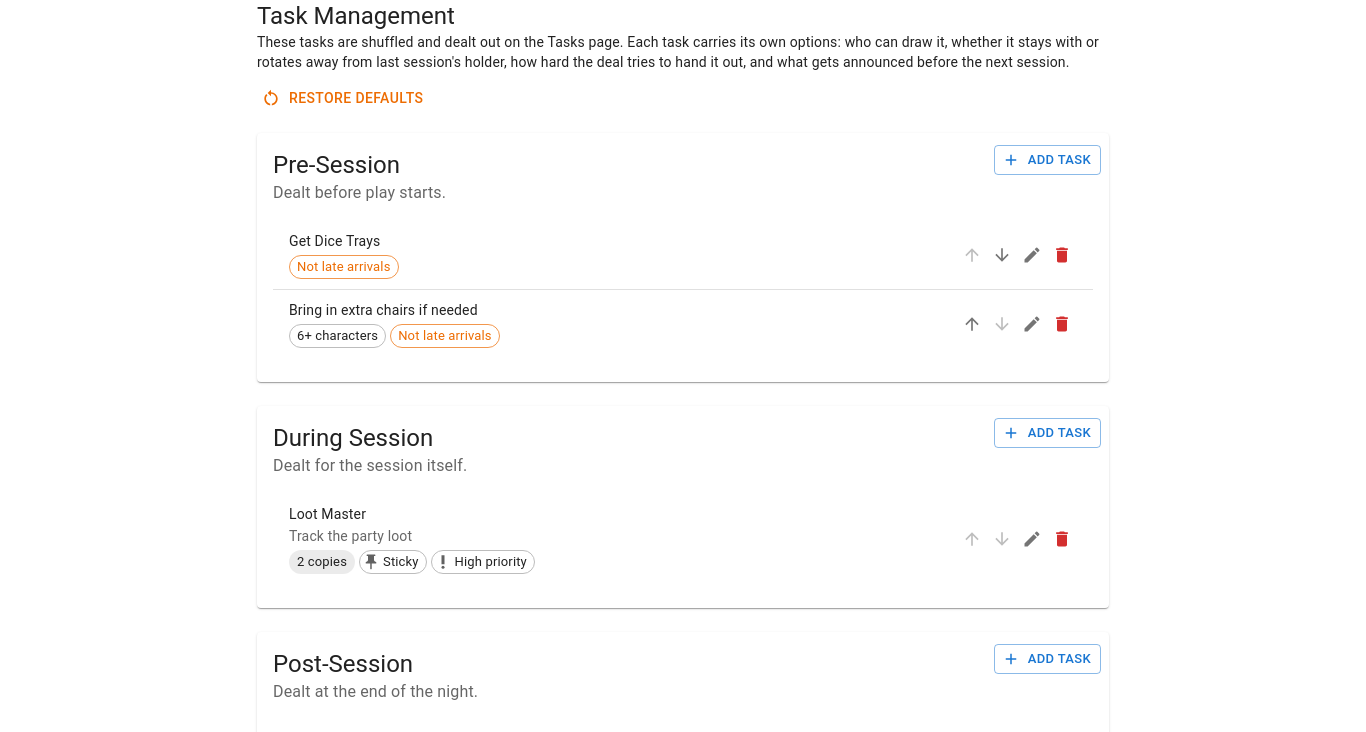
Test case: TaskManagement › submit-time validation › rejects a limit that is not a whole number instead of truncating it (F-1218)
Expected: the text "Get Dice Trays" is shown, [289,233,380,249]
Click the button "Add task" in the row of "Pre-Session".
click(1047, 160)  # box [994,144,1101,175]
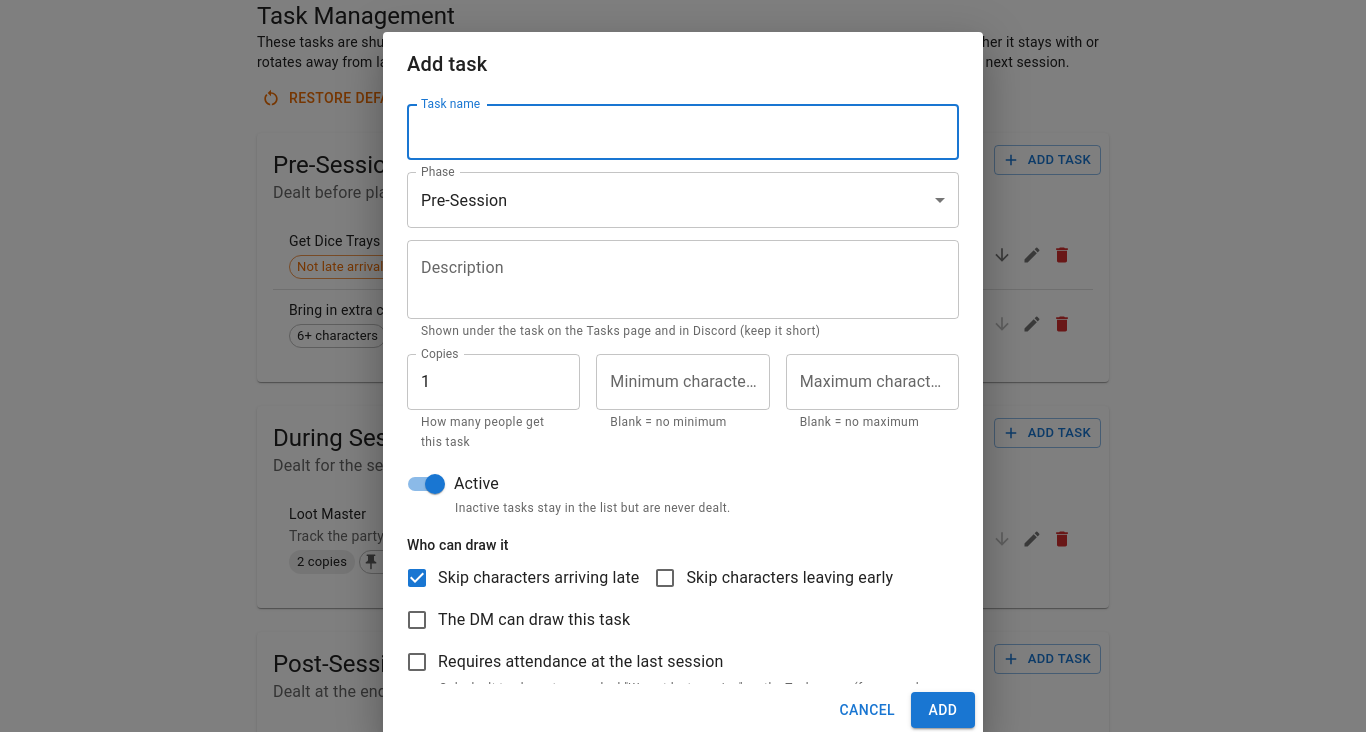
Type "Valid name" into the field labelled "Task name".
click(683, 132); type("Valid name")  # box [407,104,959,160]
Replace the text in the number field labelled "Copies" with "2.7" at (494, 382), box [407,354,580,410]
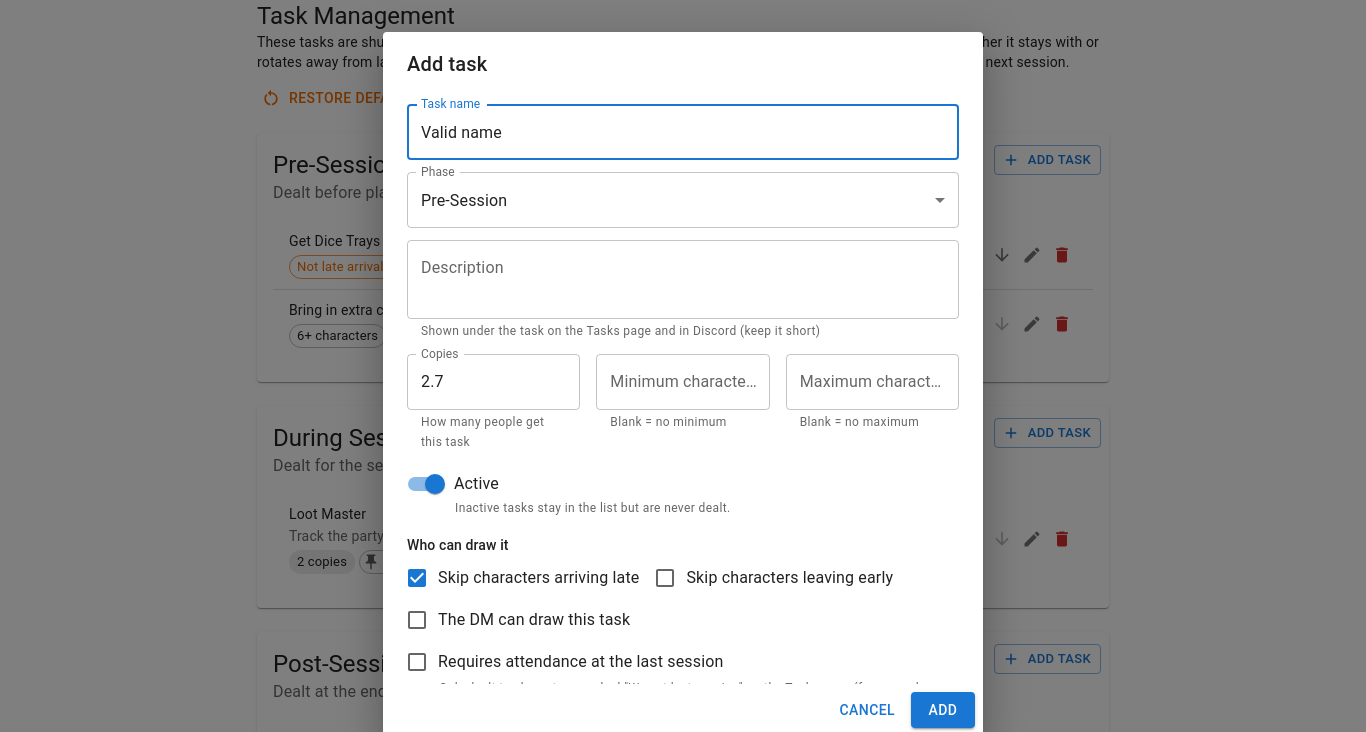
Click the button "Add".
click(943, 710)  # box [911,692,975,728]
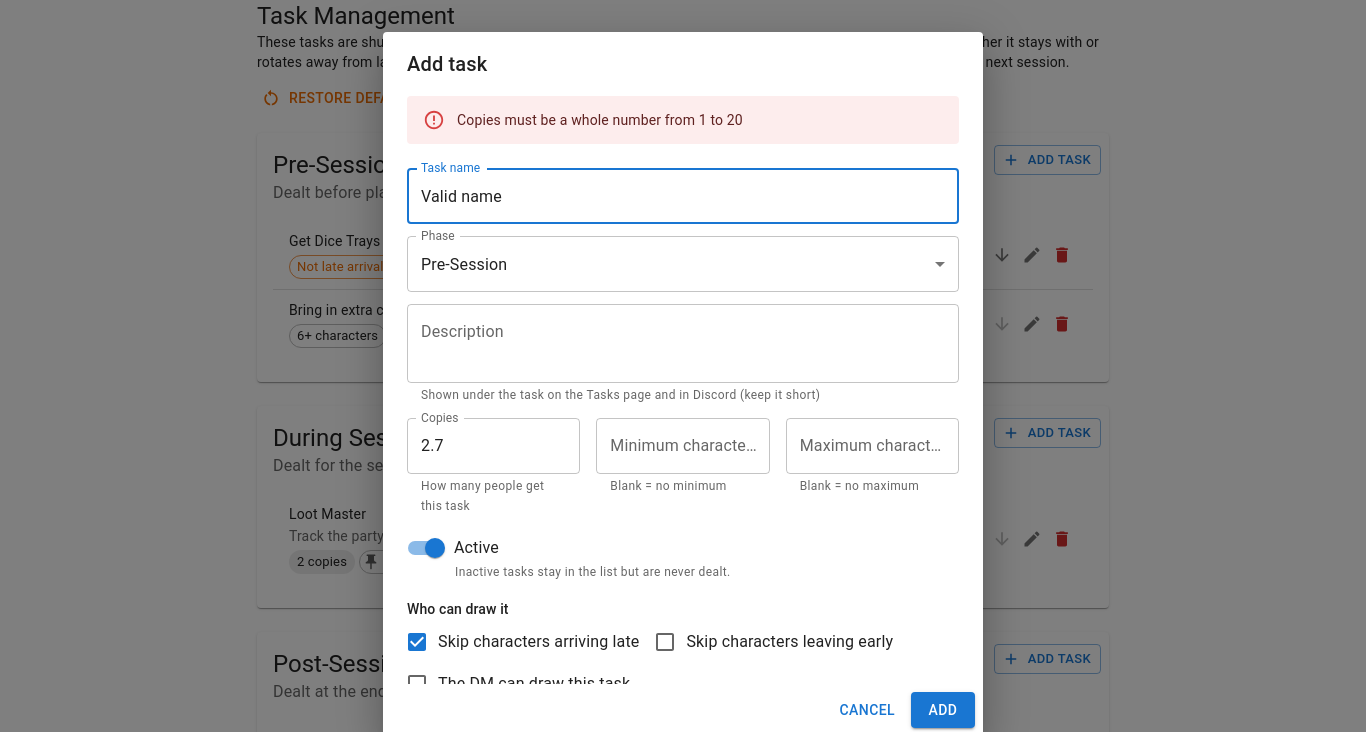
Expected: the text "Copies must be a whole number from 1 to 20" is shown, [457,112,743,128]
Replace the text in the number field labelled "Copies" with "1" at (494, 446), box [407,418,580,474]
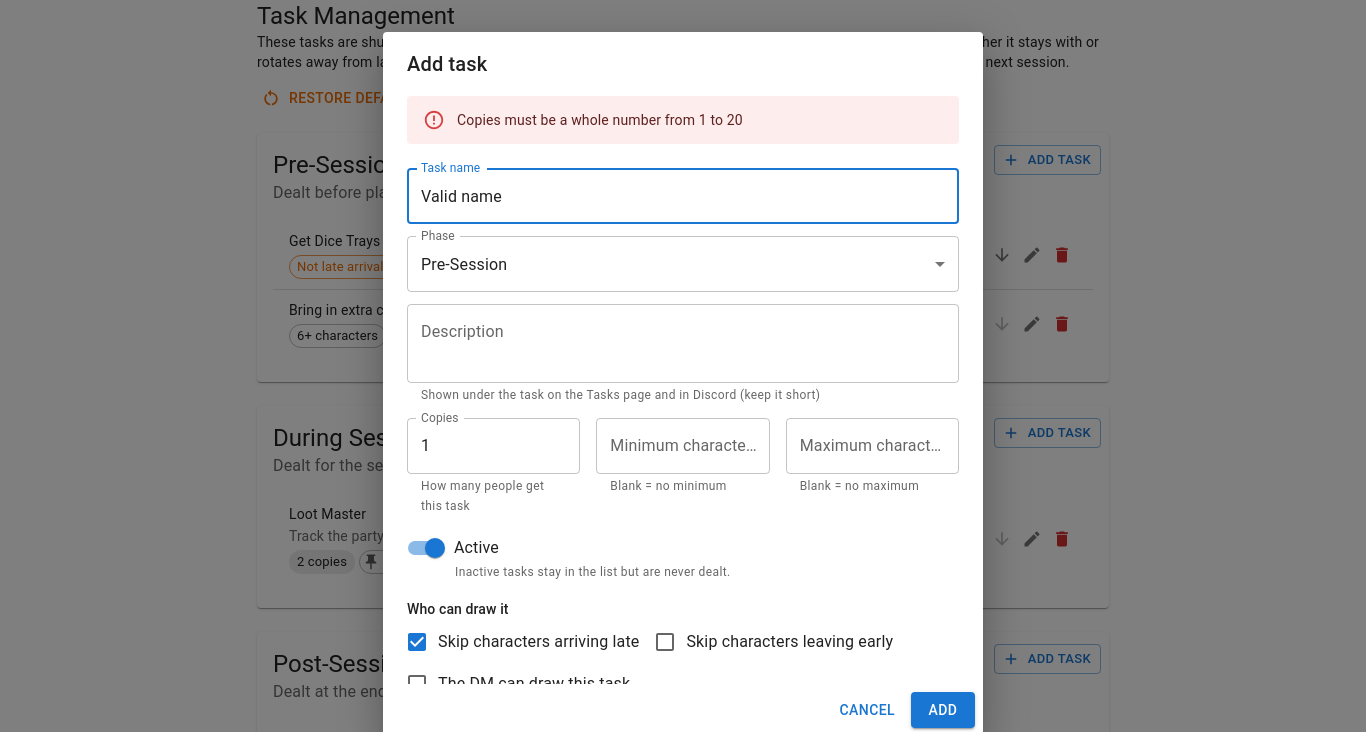
Type "1e1" into the number field labelled "Minimum characters".
click(683, 446); type("1e1")  # box [596,418,770,474]
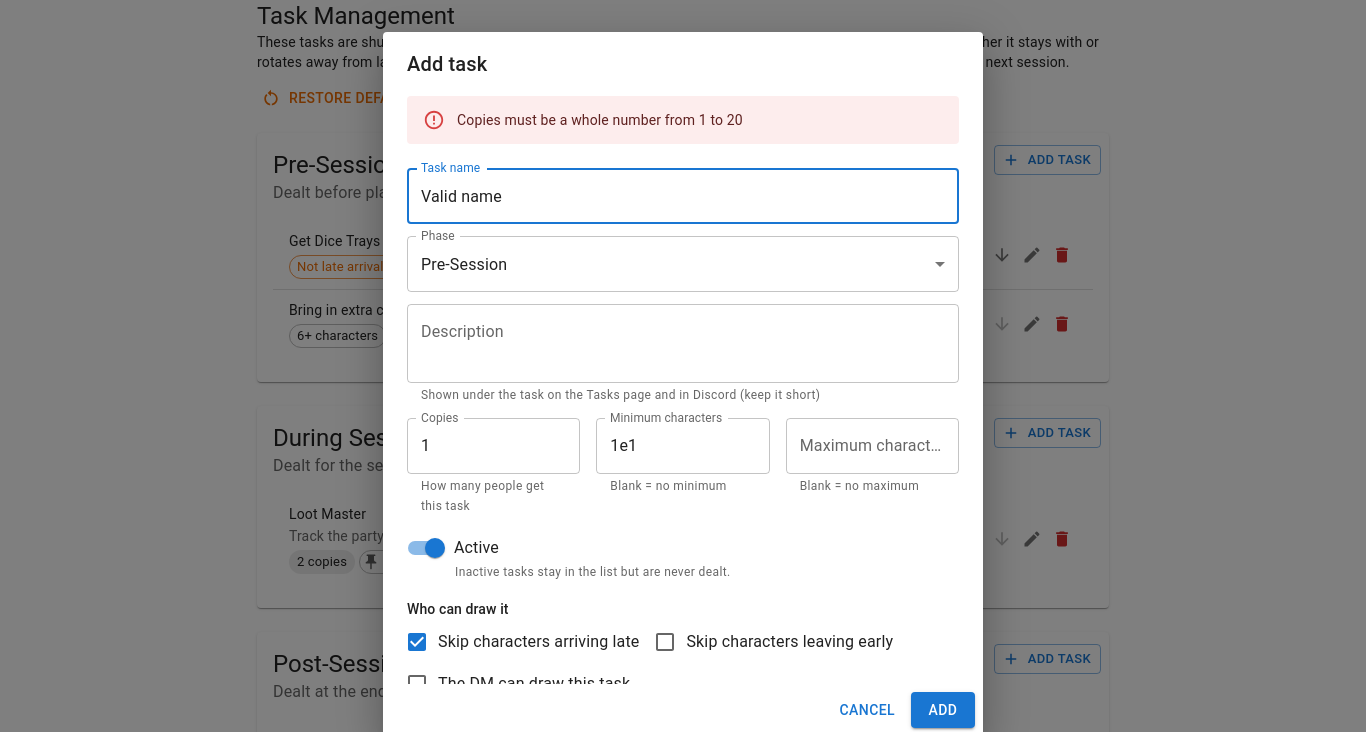
Click the button "Add".
click(943, 710)  # box [911,692,975,728]
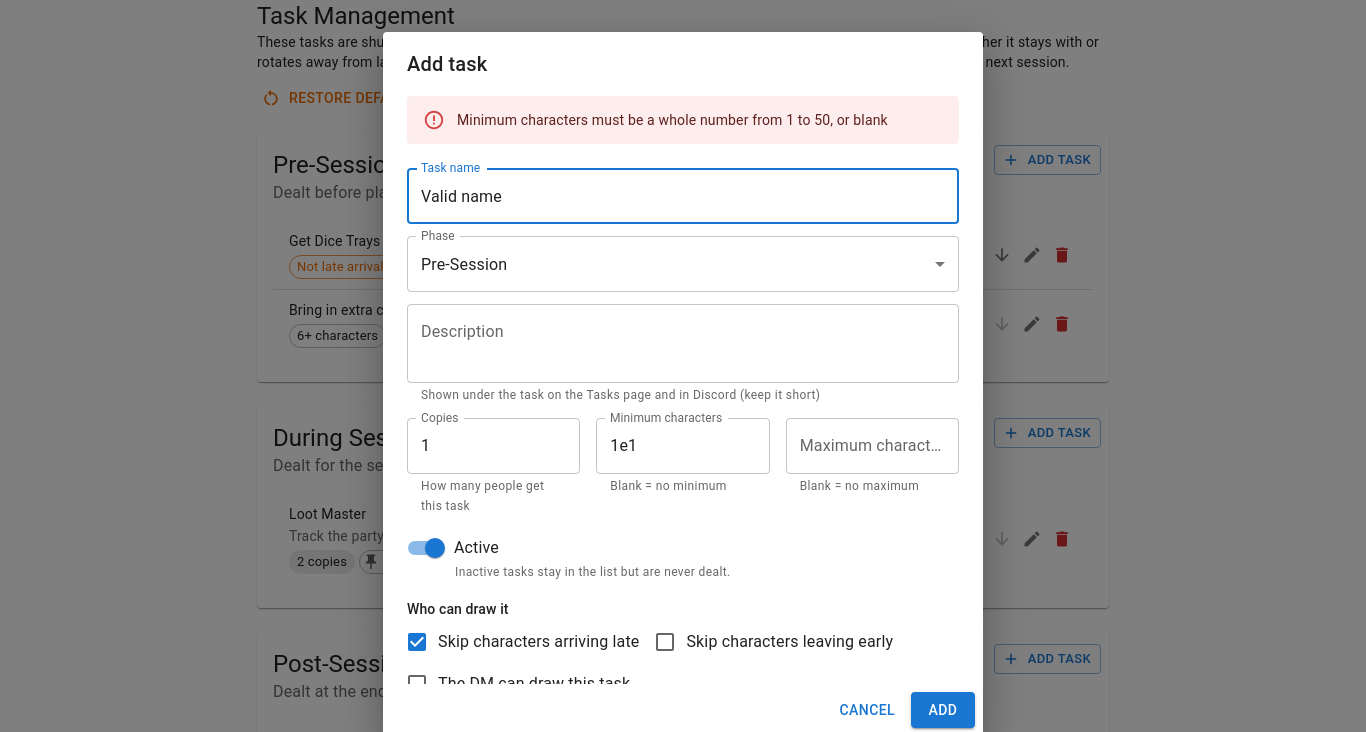
Expected: the text "Minimum characters must be a whole number" is shown, [457,112,888,128]
